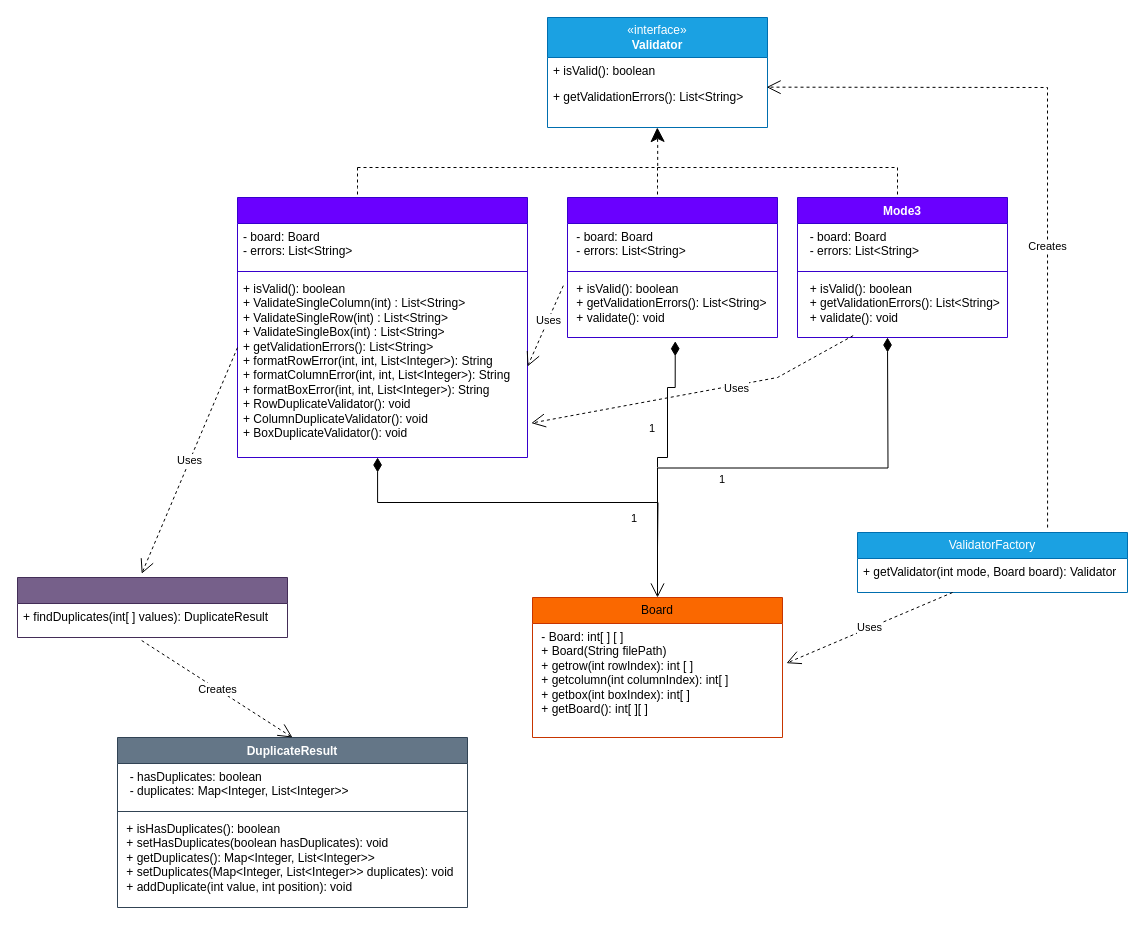
This 1145x928 diagram has some shape labels left out. The box of each missing label's shape, as (x1, y1, x2, y2) in pixels:
DuplicatesFinder: (16, 576, 288, 638)
Mode27: (566, 196, 778, 338)
SequentialValidator: (236, 196, 528, 458)
